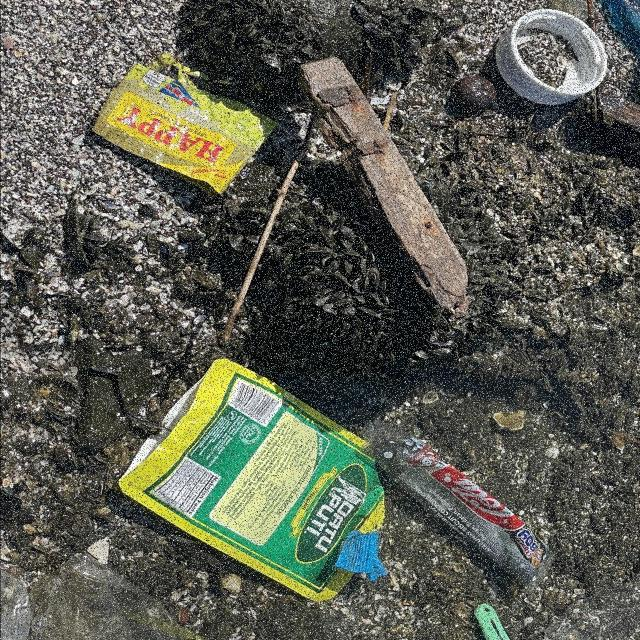plastic_waste: (118, 358, 387, 604), (360, 419, 556, 593), (91, 53, 279, 199), (495, 10, 610, 108)
wood_waste: (297, 57, 476, 317)
